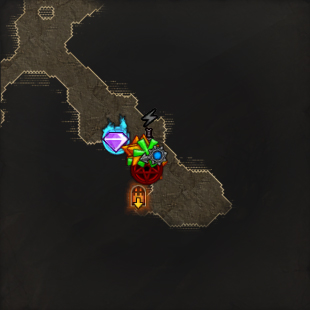Exit: (130, 185, 148, 211)
Urushi: (103, 114, 130, 155)
